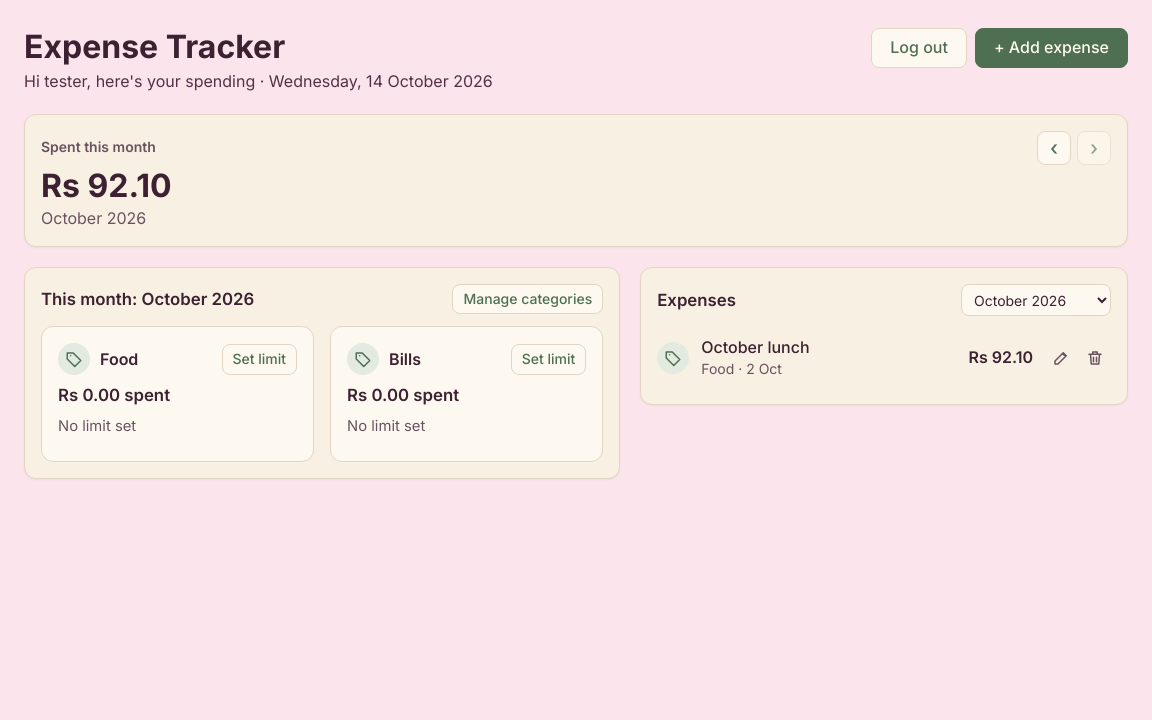
Test: after adding an expense, the list and the box keep their chosen months
expect the text "Rs 92.10" below "Spent this month" is shown: met, box [41,166,172,205]
Select "September 2026" in the dropdown named "Show expenses from" at (1036, 300), box [961,284,1111,316]
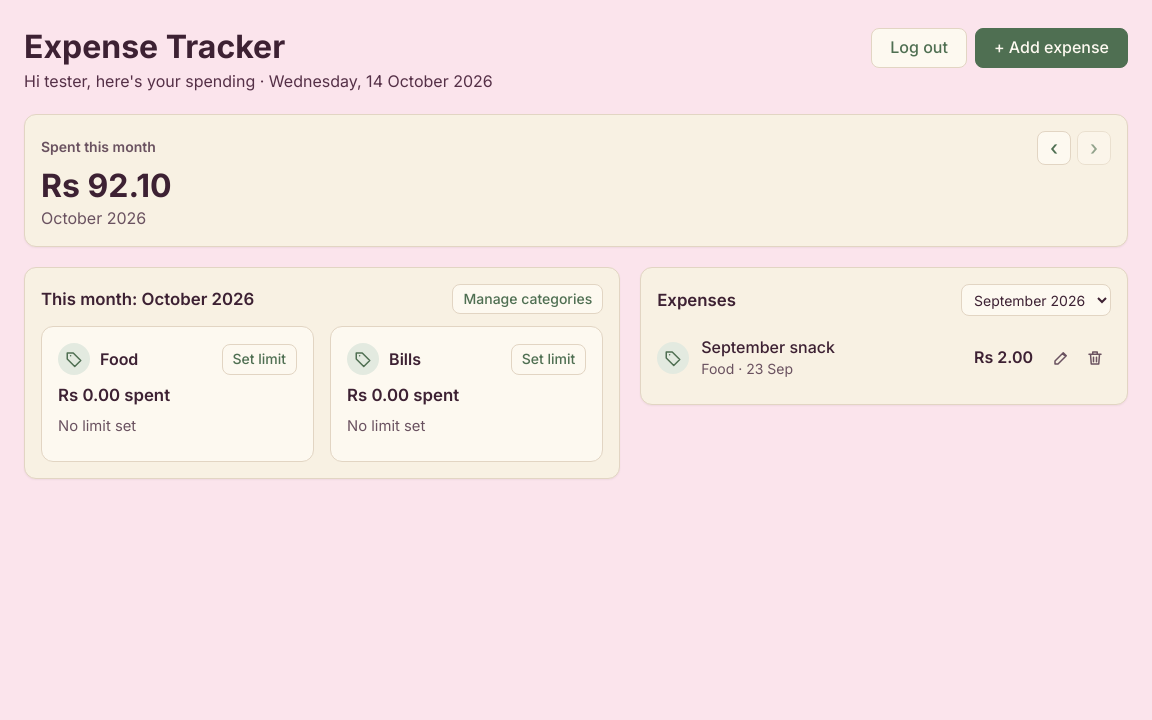
Click the button named "Previous month" at (1054, 148), box [1037,131,1071,165]
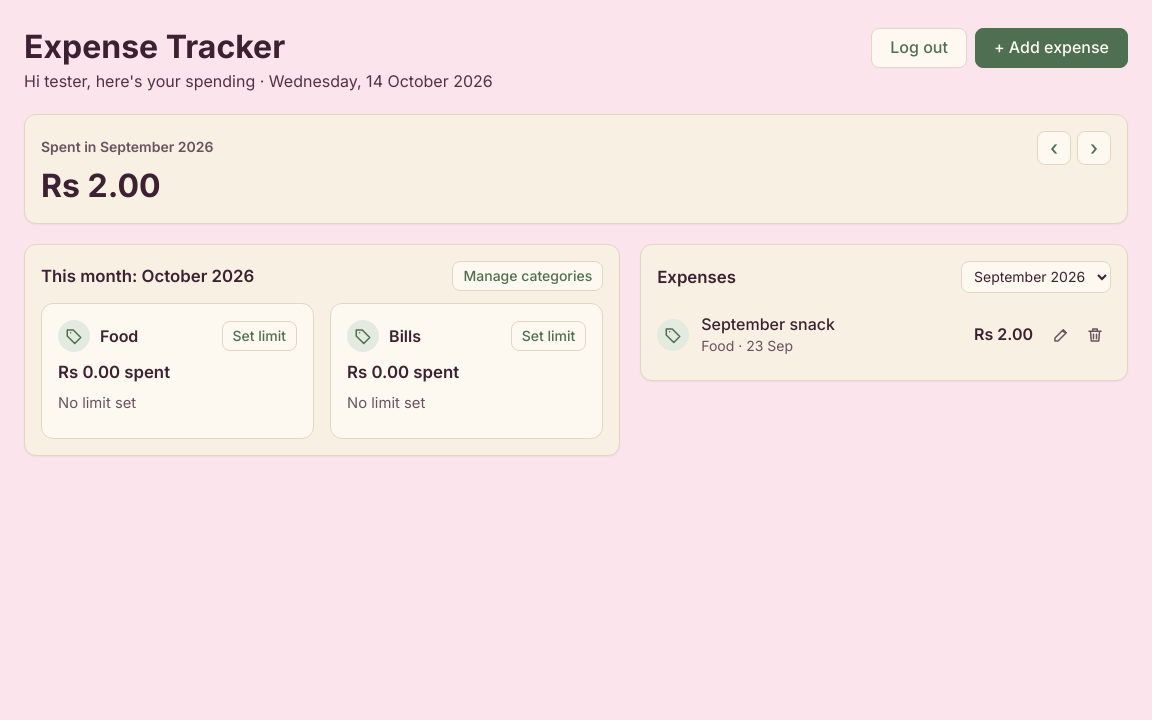
expect the text "Rs 2.00" below "Spent in September 2026" is shown: met, box [41,166,161,205]
Click the button "+ Add expense" at (1051, 48), box [975,28,1128,68]
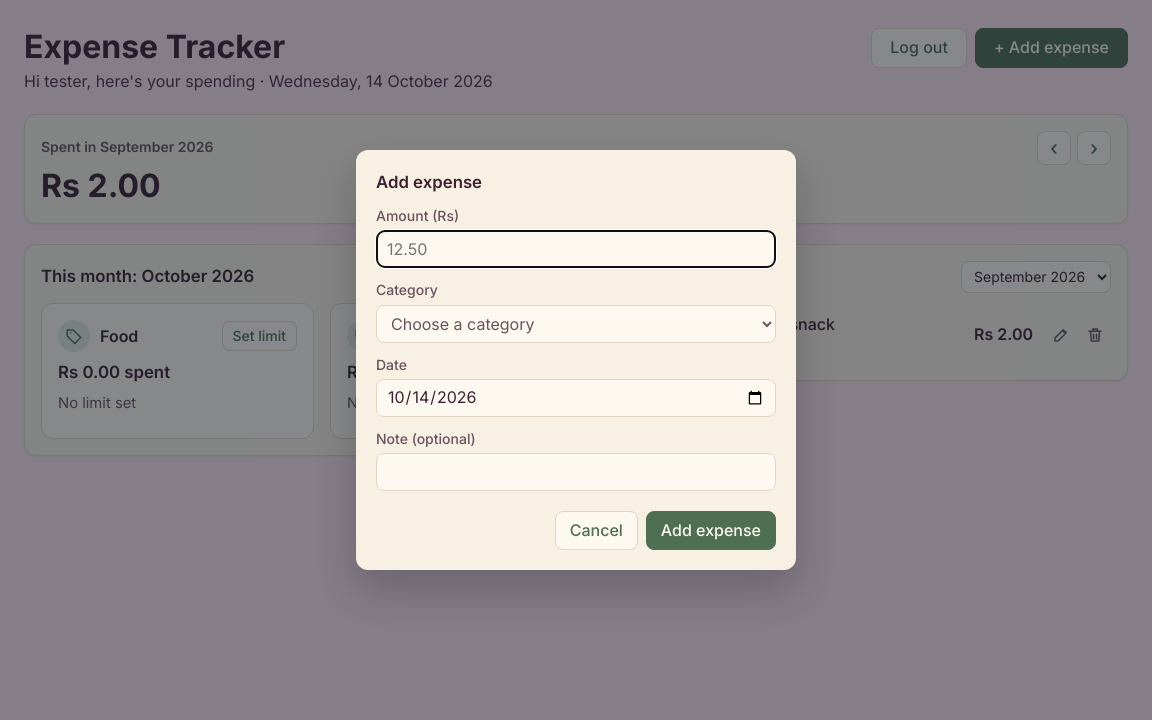
Type "3.00" into the field labelled "Amount (Rs)" at (576, 249), box [376,230,776,268]
Select "Food" in the dropdown labelled "Category" at (576, 324), box [376,305,776,343]
Type "2026-09-25" into the date field labelled "Date" at (576, 398), box [376,379,776,417]
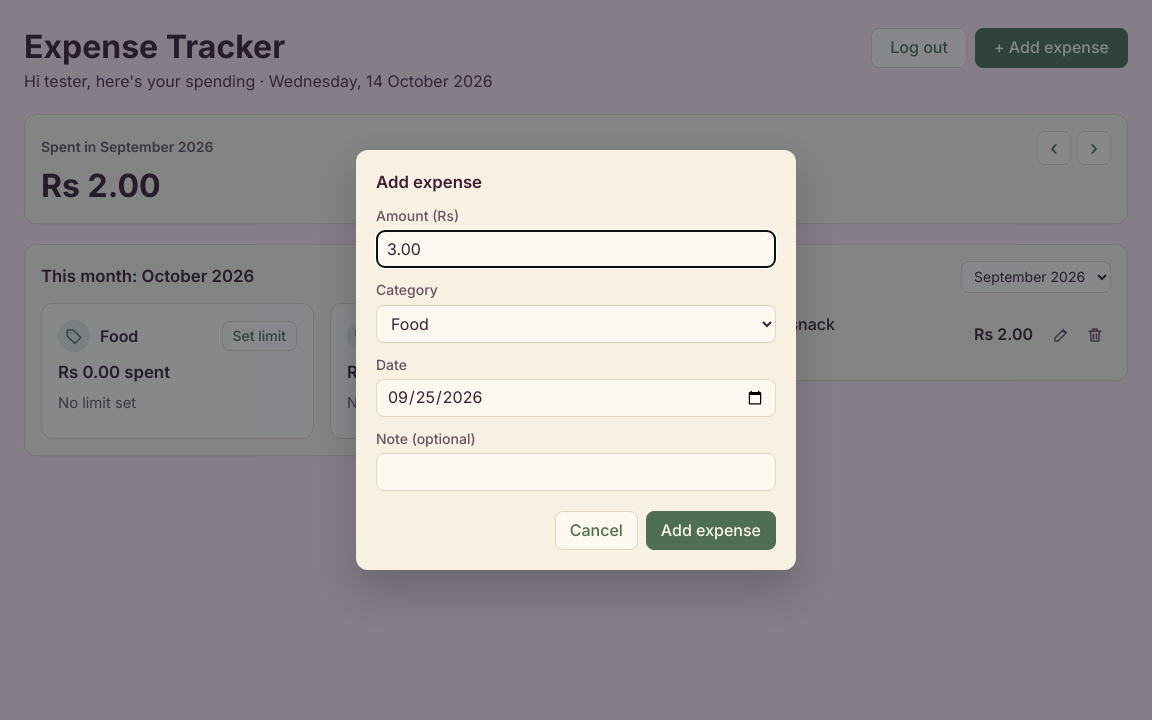
Type "Tea" into the field labelled "Note (optional)" at (576, 472), box [376,453,776,491]
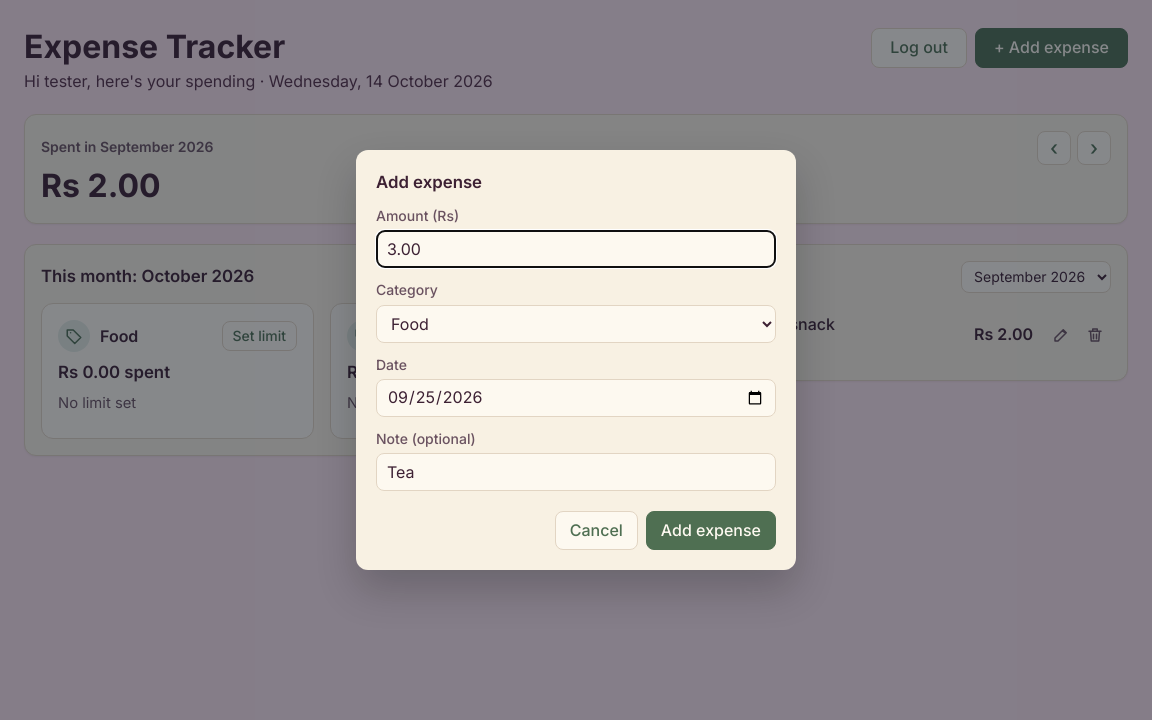
Click the button "Add expense" at (711, 531), box [646,511,776,550]
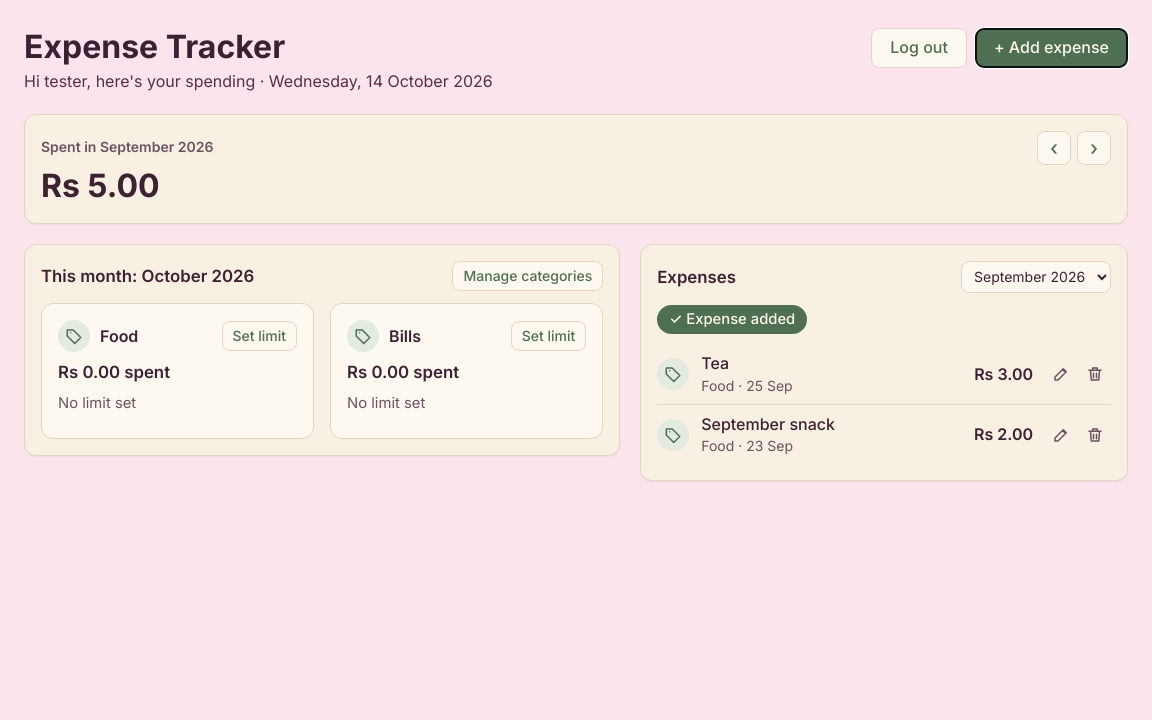
expect the text "Spent in September 2026" is shown: met, box [41,137,214,158]
expect the text "Rs 5.00" is shown: met, box [41,166,160,205]
